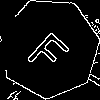F: (24, 23, 78, 78)
